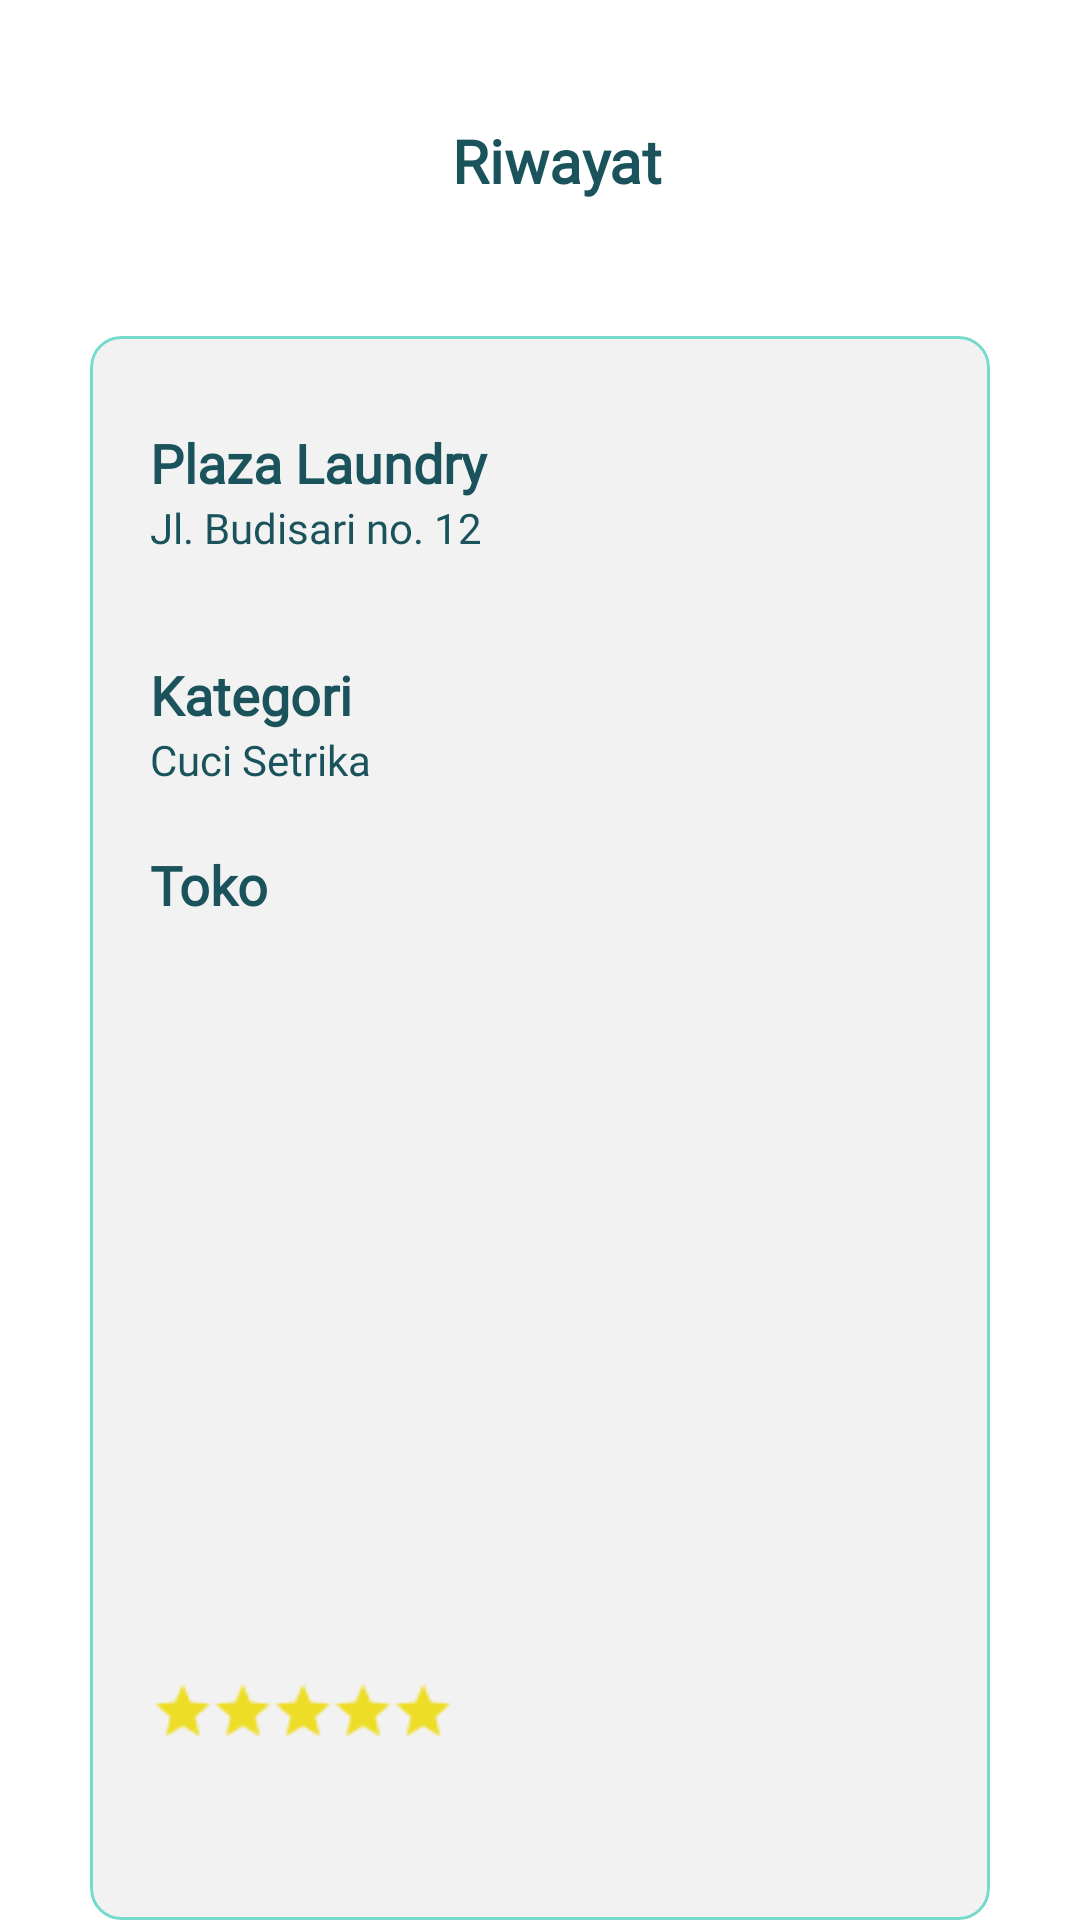

Icons on this 1080w x 1920h Android screen, each with the point to tap as point (x, y):
rating: point (303, 1710)
